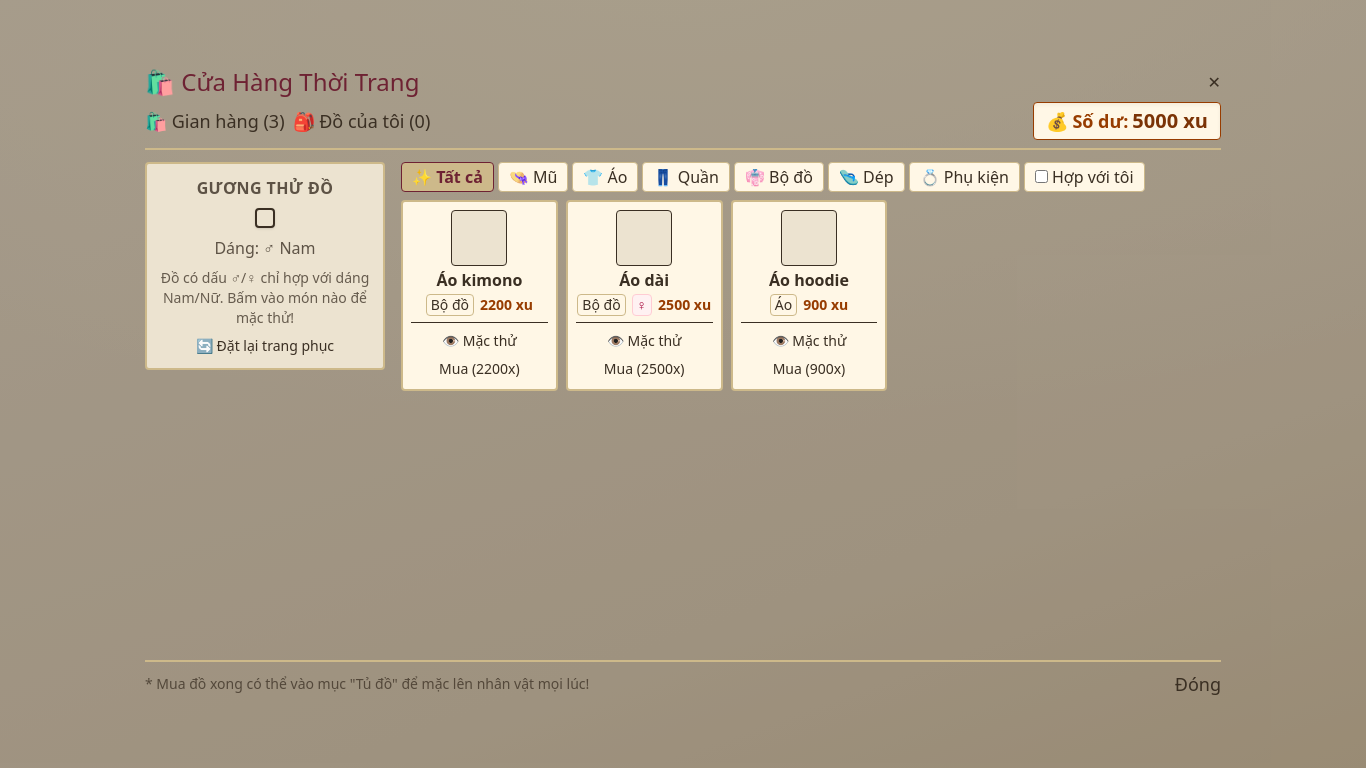
FashionStoreModal: outfits and gender › shows the Bộ đồ chip, a ♀ tag, and hides nu-only items with Hợp với tôi
expect the text "Áo dài" is shown: met, box [619, 269, 669, 291]
expect the text "♀" is shown: met, box [632, 294, 652, 316]
Click the button "👘 Bộ đồ" at (779, 177), box [734, 162, 824, 192]
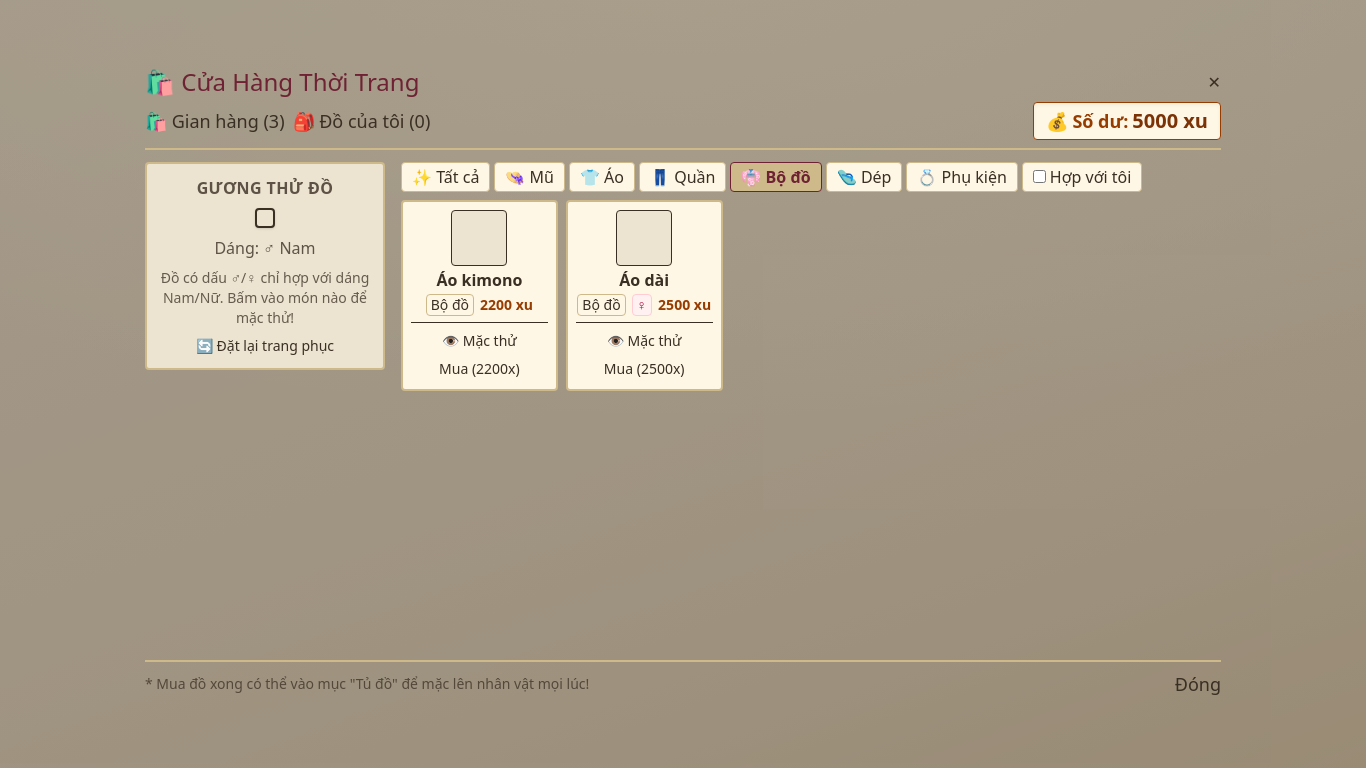
expect the text "Áo kimono" is shown: met, box [436, 269, 522, 291]
expect the button "Áo hoodie" is gone: met
Click the checkbox labelled "Hợp với tôi" at (1039, 177), box [1033, 170, 1046, 183]
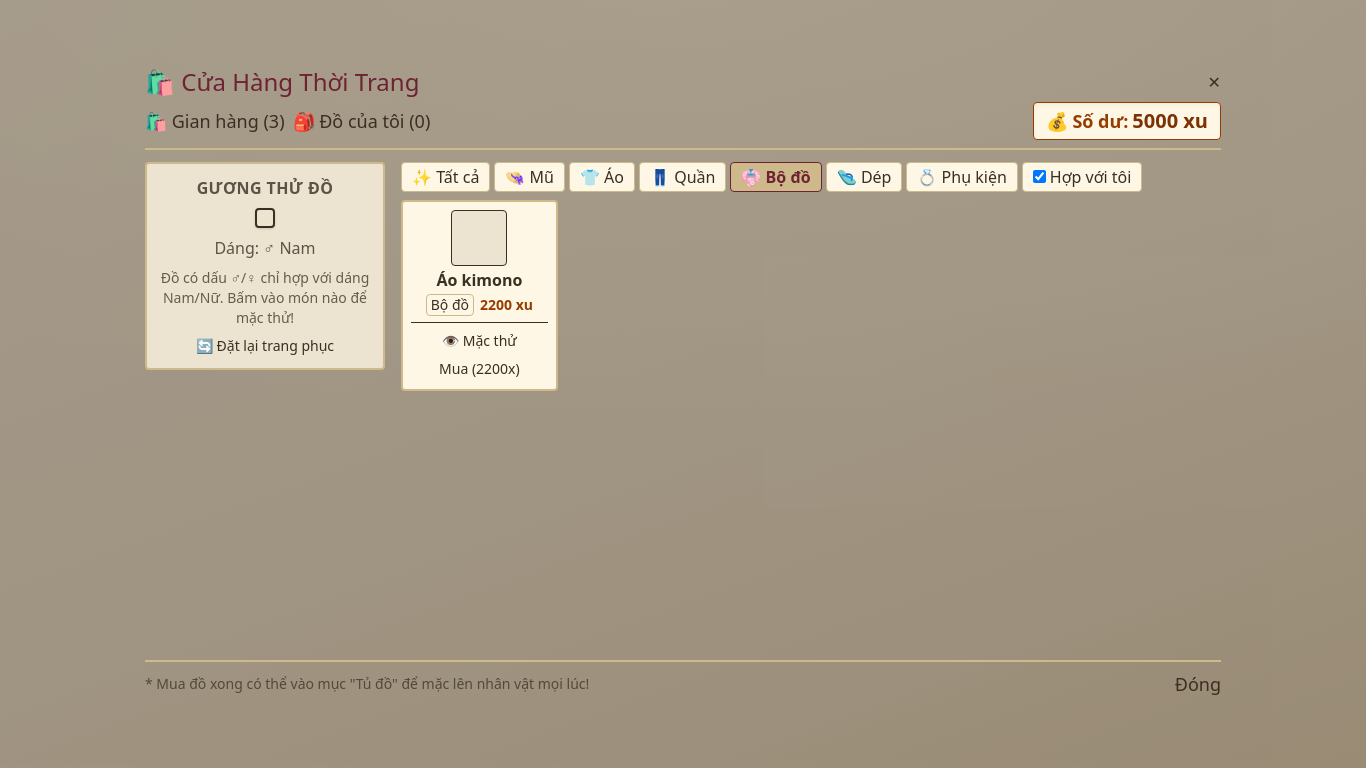
expect the text "Áo kimono" is shown: met, box [436, 269, 522, 291]
expect the button "Áo dài" is gone: met
